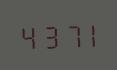four: (18, 21, 37, 50)
one: (78, 19, 97, 48)
seven: (58, 20, 77, 49)
three: (38, 20, 57, 50)
